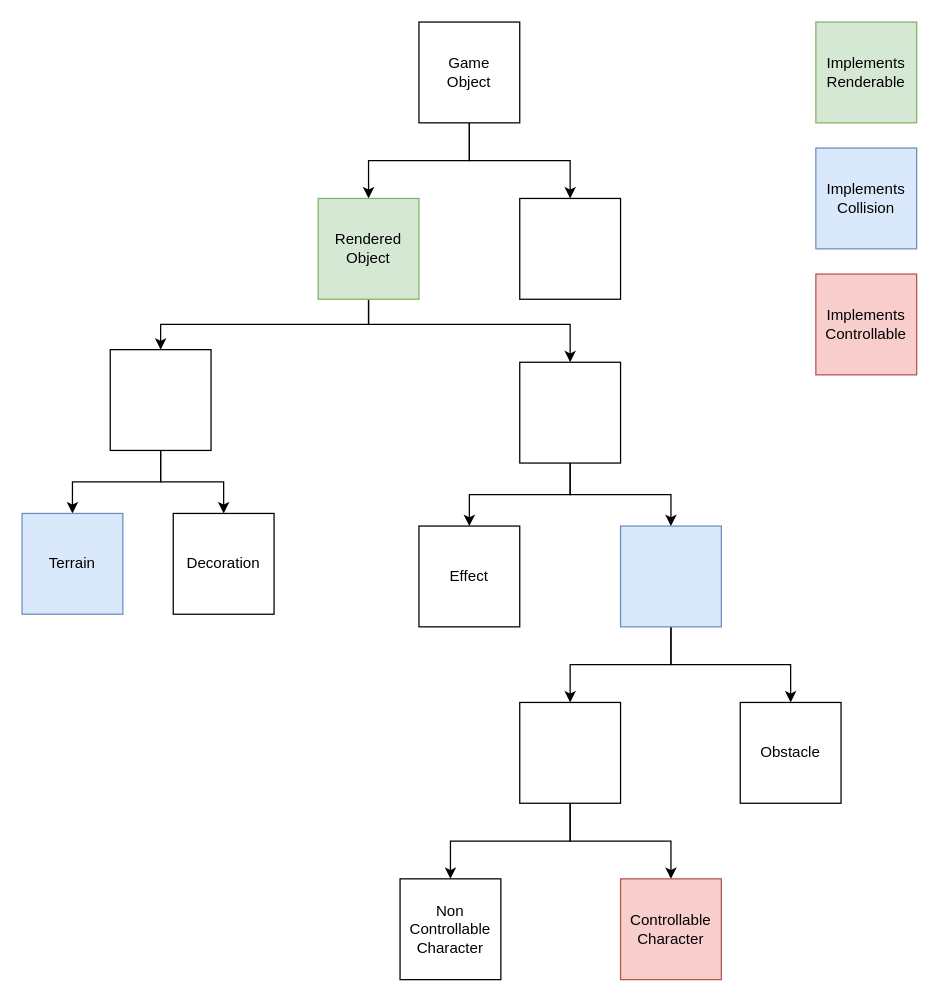
The diagram is 939 pixels wide and 1002 high, and some of its shapes have lost their labels. Here are the shapes that lost their labels. From the top down, the box of each, then its label:
(518, 197, 621, 299): Non Rendered Object
(109, 348, 211, 450): Static Object
(518, 361, 621, 463): Dynamic Object
(619, 525, 721, 627): Collidable Dynamic Object
(518, 701, 621, 803): Character
